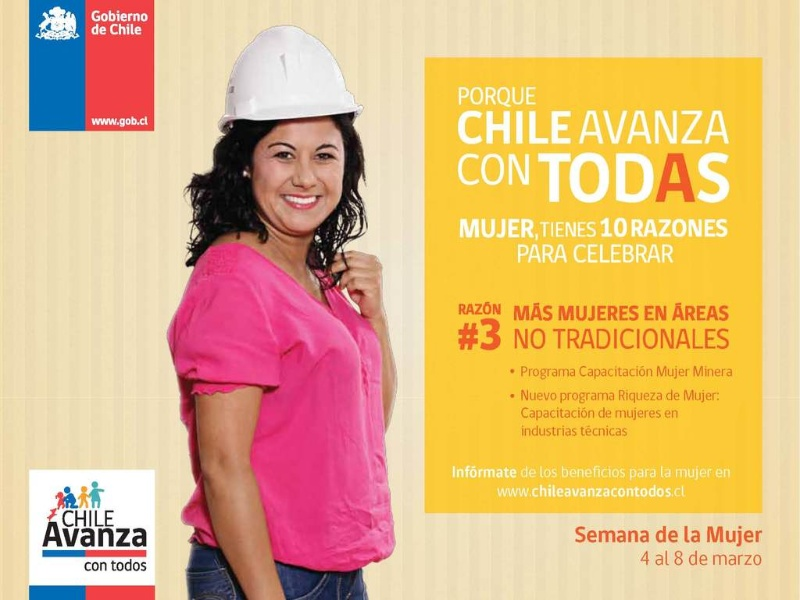Baret: (220, 27, 360, 120)
